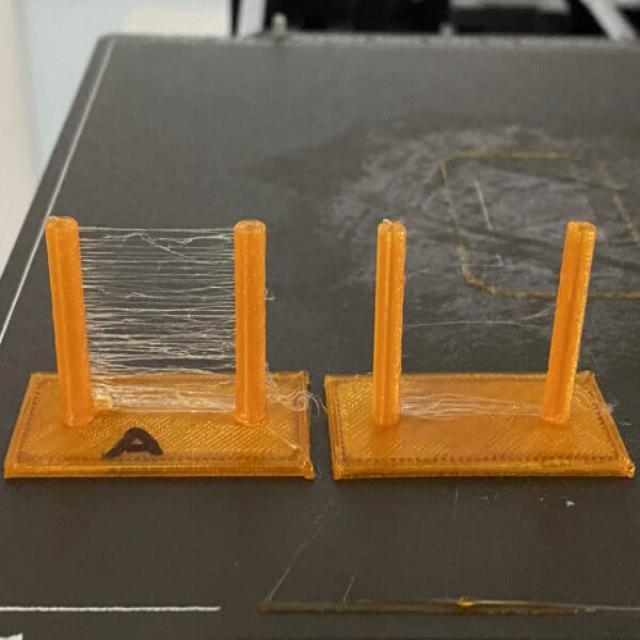Stringing: (88, 239, 242, 405)
